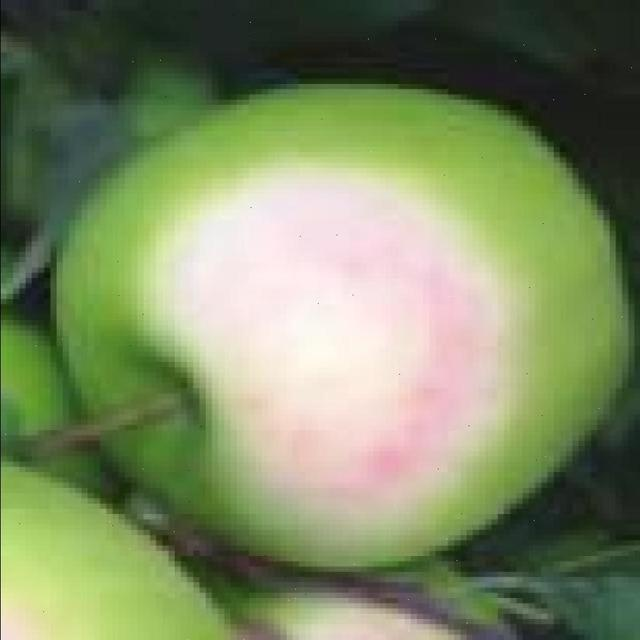Sunscald Fruit: (97, 114, 342, 352)
